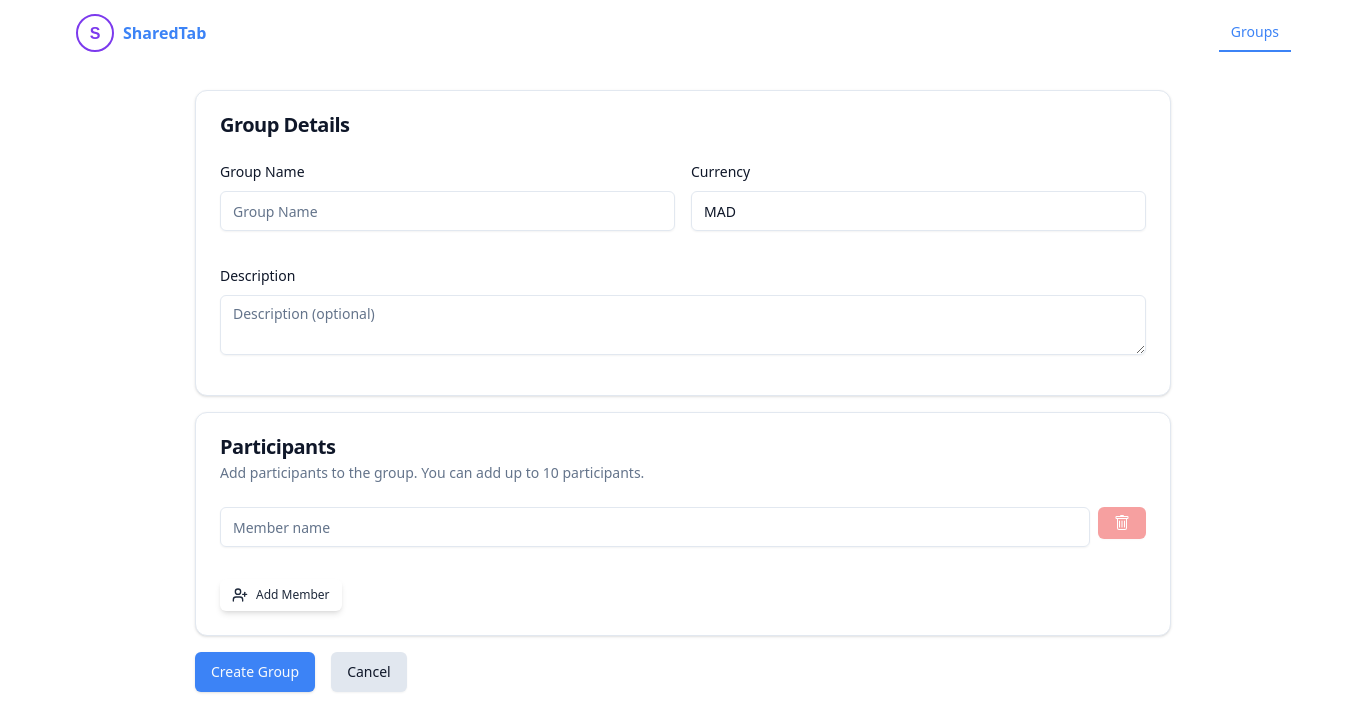
it: Create Group Page › allows adding and removing participants
Note: Add a member
Click the button "Add Member". click: (281, 595)
box: [220,579,342,611]
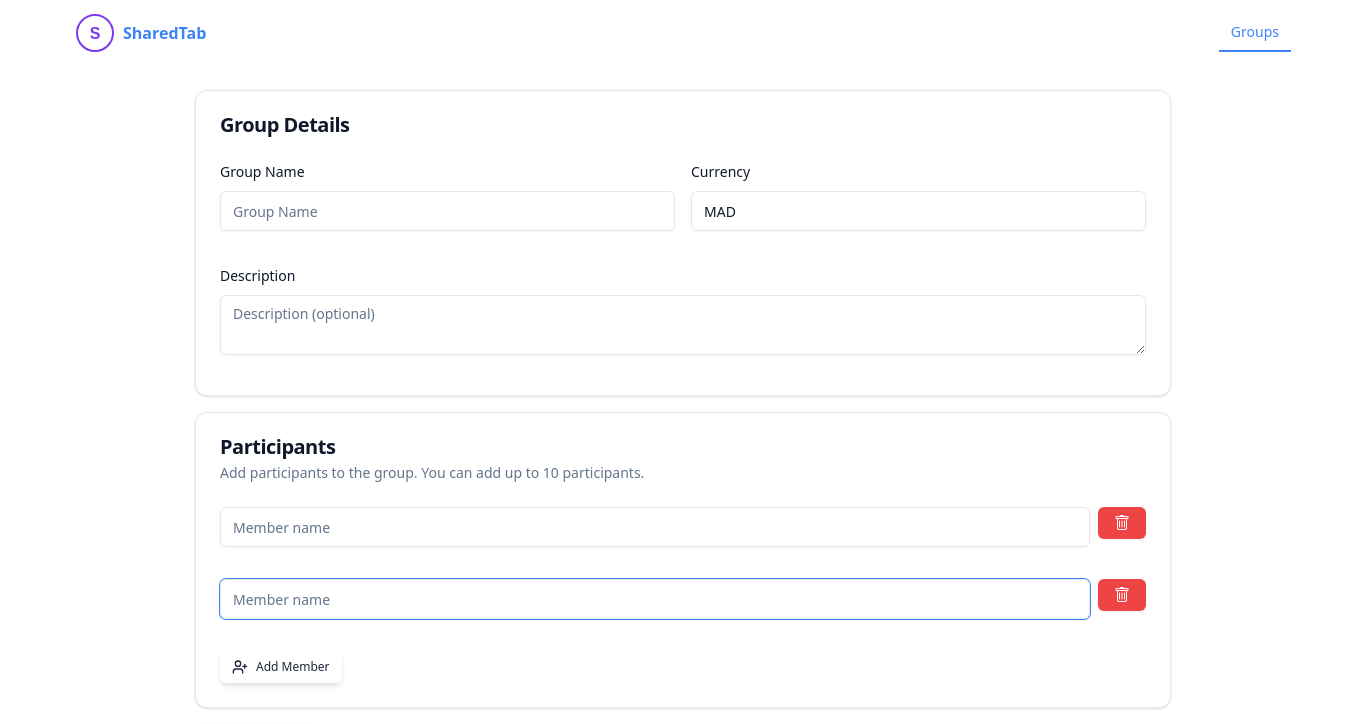
Note: Add another member
Click the button "Add Member". click: (281, 667)
box: [220,651,342,683]
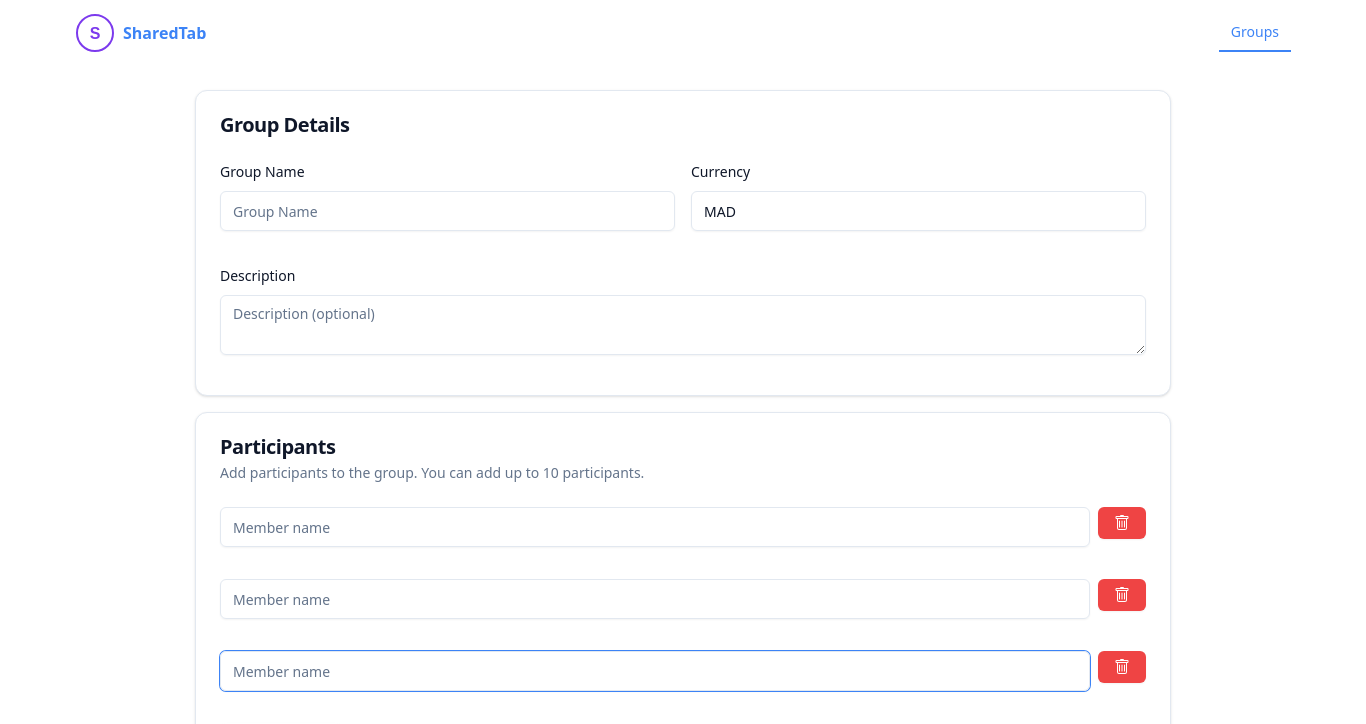
Note: Remove a member
Click the button with test id "remove-member-button". click: (1122, 595)
box: [1098,579,1146,611]
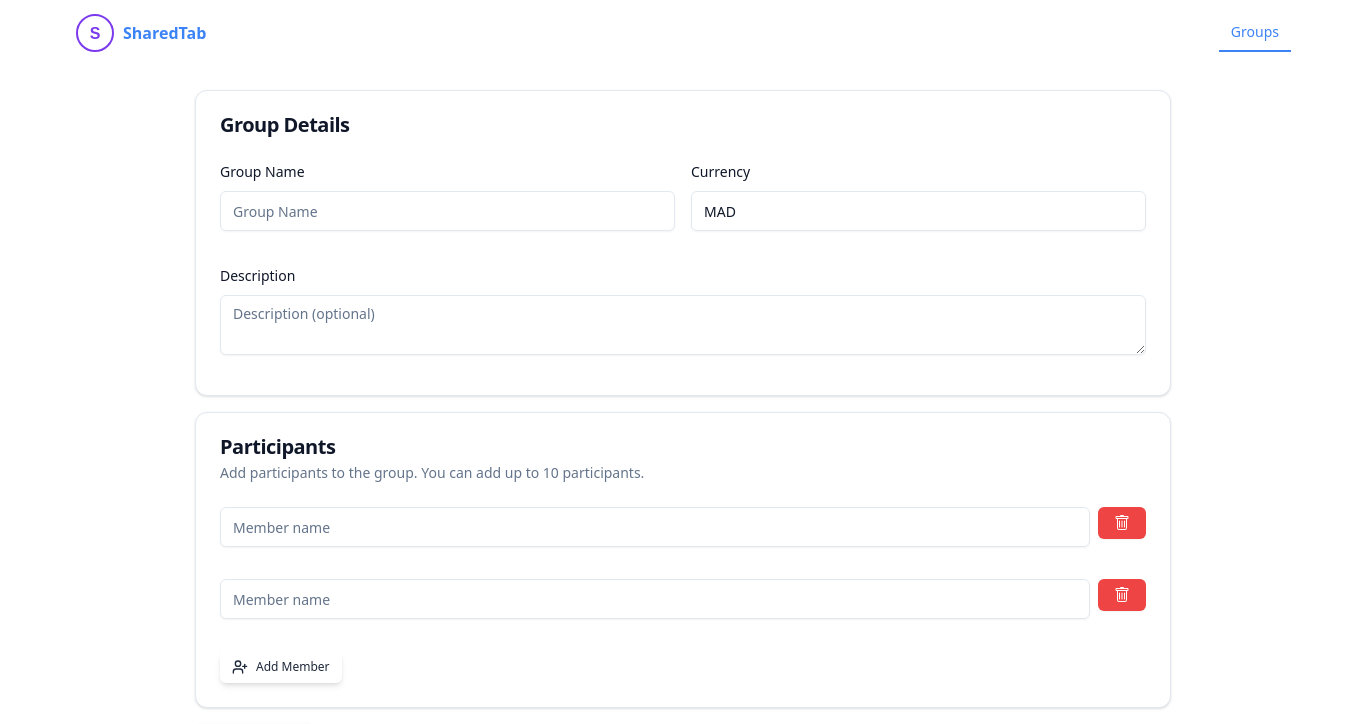
Click the button with test id "remove-member-button". click: (1122, 523)
box: [1098,507,1146,539]
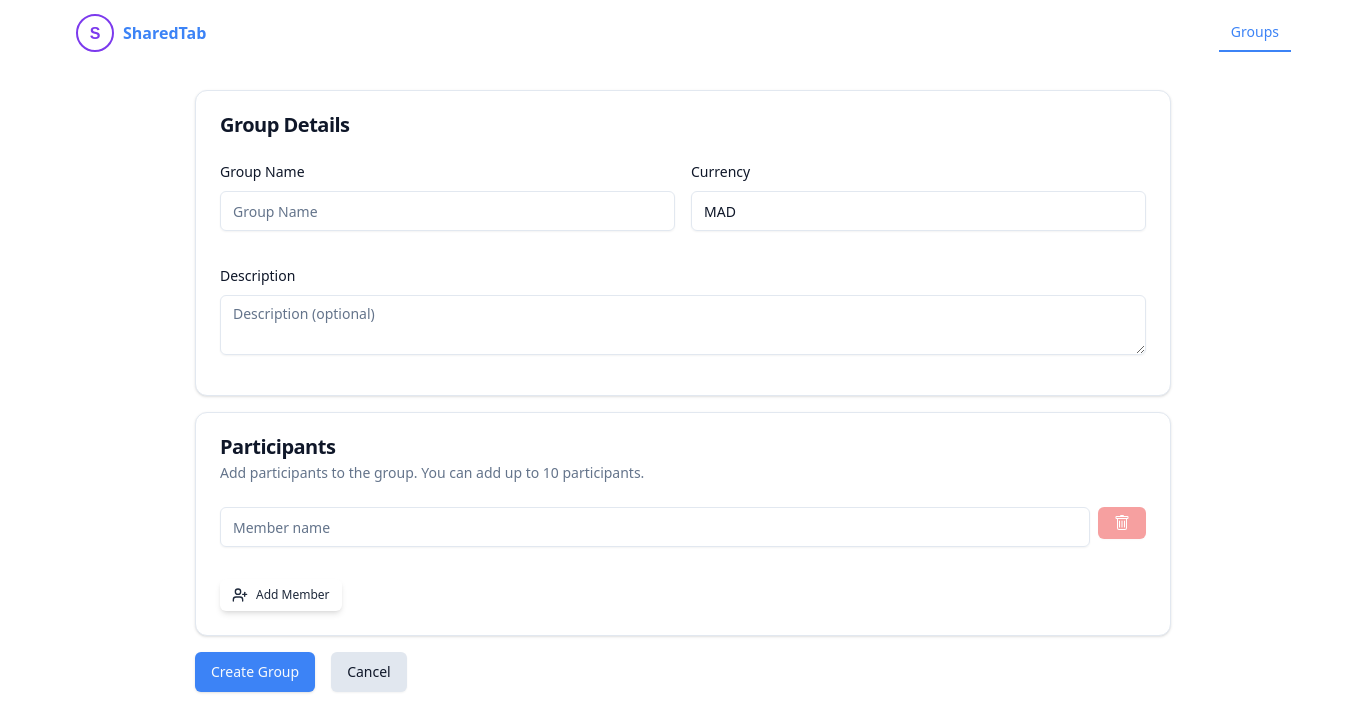
Now the button with test id "remove-member-button" is disabled, box [1098,507,1146,539]
